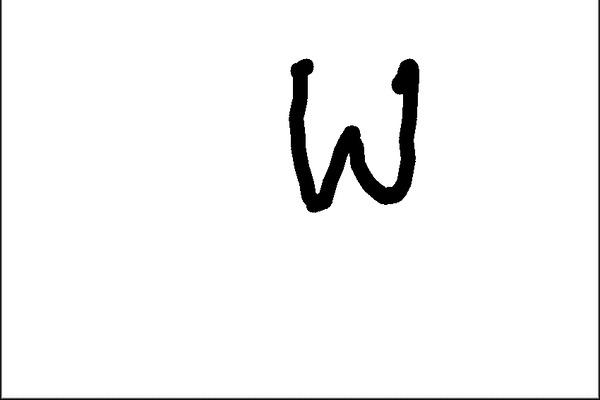w: (269, 47, 446, 216)
